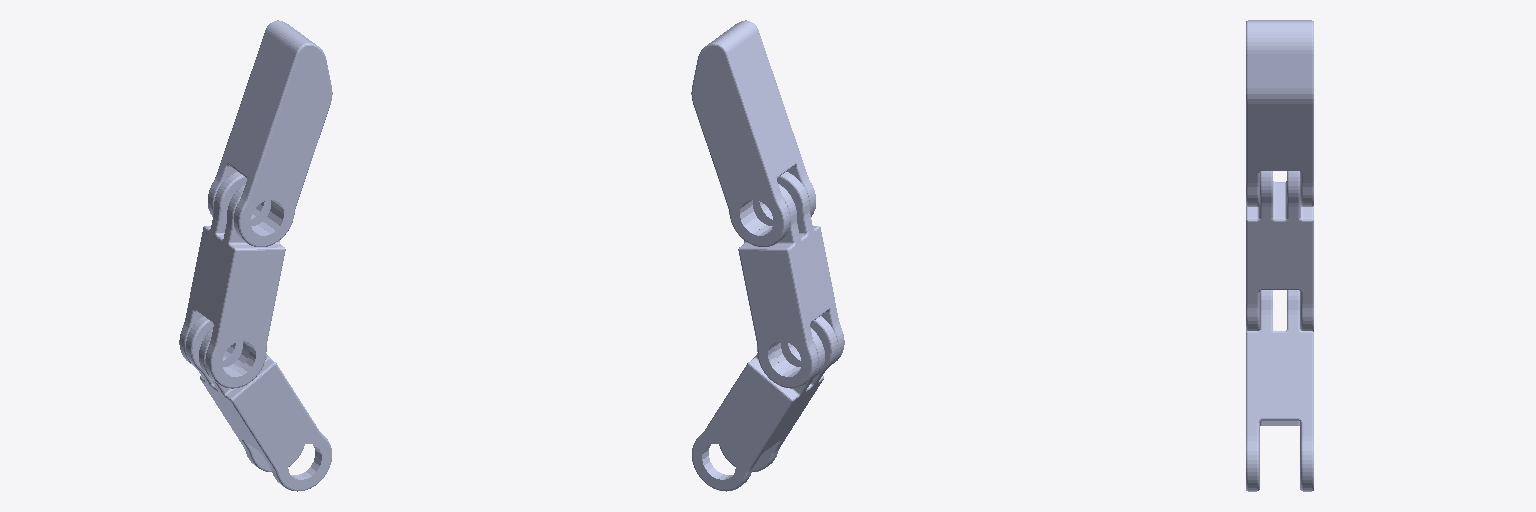
robot.urdf — Assembly.SLDASM:
<?xml version="1.0" encoding="utf-8"?>
<!-- This URDF was automatically created by SolidWorks to URDF Exporter! Originally created by [author] ([email redacted]) 
     Commit Version: 1.6.0-4-g7f85cfe  Build Version: 1.6.7995.38578
     For more information, please see http://wiki.ros.org/sw_urdf_exporter -->
<robot
  name="Assembly.SLDASM">
  <link
    name="base_link">
    <inertial>
      <origin
        xyz="4.1638E-18 -0.0099501 0.03"
        rpy="0 0 0" />
      <mass
        value="2.2532" />
      <inertia
        ixx="0.0027726"
        ixy="5.064E-20"
        ixz="7.5802E-20"
        iyy="0.0053916"
        iyz="1.4088E-20"
        izz="0.0027727" />
    </inertial>
    <visual>
      <origin
        xyz="0 0 0"
        rpy="0 0 0" />
      <geometry>
        <mesh
          filename="package://Assembly.SLDASM/meshes/base_link.STL" />
      </geometry>
      <material
        name="">
        <color
          rgba="0.52941 0.54902 0.54902 1" />
      </material>
    </visual>
    <collision>
      <origin
        xyz="0 0 0"
        rpy="0 0 0" />
      <geometry>
        <mesh
          filename="package://Assembly.SLDASM/meshes/base_link.STL" />
      </geometry>
    </collision>
  </link>
  <link
    name="link1">
    <inertial>
      <origin
        xyz="0.0175 -0.0075 -2.0201E-15"
        rpy="0 0 0" />
      <mass
        value="0.0057358" />
      <inertia
        ixx="2.1463E-07"
        ixy="-1.4818E-22"
        ixz="-1.7205E-22"
        iyy="7.0203E-07"
        iyz="3.503E-23"
        izz="7.1625E-07" />
    </inertial>
    <visual>
      <origin
        xyz="0 0 0"
        rpy="0 0 0" />
      <geometry>
        <mesh
          filename="package://Assembly.SLDASM/meshes/link1.STL" />
      </geometry>
      <material
        name="">
        <color
          rgba="0.79216 0.81961 0.93333 1" />
      </material>
    </visual>
    <collision>
      <origin
        xyz="0 0 0"
        rpy="0 0 0" />
      <geometry>
        <mesh
          filename="package://Assembly.SLDASM/meshes/link1.STL" />
      </geometry>
    </collision>
  </link>
  <joint
    name="joint0"
    type="revolute">
    <origin
      xyz="0 -0.0225 0.008"
      rpy="3.1416 -1.0462 3.1416" />
    <parent
      link="base_link" />
    <child
      link="link1" />
    <axis
      xyz="0 1 0" />
    <limit
      lower="-1.57"
      upper="1.57"
      effort="10"
      velocity="100" />
  </joint>
  <link
    name="link2">
    <inertial>
      <origin
        xyz="0.0175 0.0075 -2.2309E-15"
        rpy="0 0 0" />
      <mass
        value="0.0057358" />
      <inertia
        ixx="2.1463E-07"
        ixy="2.4975E-22"
        ixz="-9.2644E-23"
        iyy="7.0203E-07"
        iyz="5.2061E-24"
        izz="7.1625E-07" />
    </inertial>
    <visual>
      <origin
        xyz="0 0 0"
        rpy="0 0 0" />
      <geometry>
        <mesh
          filename="package://Assembly.SLDASM/meshes/link2.STL" />
      </geometry>
      <material
        name="">
        <color
          rgba="0.79216 0.81961 0.93333 1" />
      </material>
    </visual>
    <collision>
      <origin
        xyz="0 0 0"
        rpy="0 0 0" />
      <geometry>
        <mesh
          filename="package://Assembly.SLDASM/meshes/link2.STL" />
      </geometry>
    </collision>
  </link>
  <joint
    name="joint1"
    type="revolute">
    <origin
      xyz="0.035 0 0"
      rpy="-3.1416 0.741 0" />
    <parent
      link="link1" />
    <child
      link="link2" />
    <axis
      xyz="0 1 0" />
    <limit
      lower="-1.57"
      upper="1.57"
      effort="10"
      velocity="100" />
  </joint>
  <link
    name="fingertip">
    <inertial>
      <origin
        xyz="0.021444 -0.0075 0.00036377"
        rpy="0 0 0" />
      <mass
        value="0.0075224" />
      <inertia
        ixx="2.7488E-07"
        ixy="-1.2304E-16"
        ixz="-4.6053E-08"
        iyy="1.1261E-06"
        iyz="-2.4426E-17"
        izz="1.1611E-06" />
    </inertial>
    <visual>
      <origin
        xyz="0 0 0"
        rpy="0 0 0" />
      <geometry>
        <mesh
          filename="package://Assembly.SLDASM/meshes/fingertip.STL" />
      </geometry>
      <material
        name="">
        <color
          rgba="0.79216 0.81961 0.93333 1" />
      </material>
    </visual>
    <collision>
      <origin
        xyz="0 0 0"
        rpy="0 0 0" />
      <geometry>
        <mesh
          filename="package://Assembly.SLDASM/meshes/fingertip.STL" />
      </geometry>
    </collision>
  </link>
  <joint
    name="joint2"
    type="revolute">
    <origin
      xyz="0.035 0 0"
      rpy="3.1416 -0.15223 0" />
    <parent
      link="link2" />
    <child
      link="fingertip" />
    <axis
      xyz="0 1 0" />
    <limit
      lower="-1.57"
      upper="1.57"
      effort="10"
      velocity="100" />
  </joint>
</robot>

--- Facts derived from the render (not from the file) ---
Views: 3 orthographic renders of the robot side by side, from view 1: azimuth 30°, elevation 25°; view 2: azimuth 150°, elevation 25°; view 3: azimuth 270°, elevation 25°.
Robot: Assembly.SLDASM — 4 links, 3 joints (3 revolute); root link base_link; default pose: every joint at zero.
Links seen in each view (by area): view 1: fingertip, link2, link1; view 2: fingertip, link2, link1; view 3: fingertip, link1, link2.
Link boxes in pixels (bbox=[...]): fingertip: bbox=[208, 20, 332, 246]; link2: bbox=[179, 172, 285, 388]; link1: bbox=[186, 316, 331, 491]; fingertip: bbox=[691, 20, 815, 246]; link2: bbox=[738, 172, 844, 388]; link1: bbox=[692, 316, 837, 491]; fingertip: bbox=[1246, 20, 1313, 206]; link1: bbox=[1246, 290, 1313, 491]; link2: bbox=[1246, 171, 1313, 331].
Bounding box of the posed robot: 0.0326 × 0.015 × 0.1138 m (x, y, z).
Meshes: 4 distinct files referenced, 3 mesh visuals loaded (3 binary STL); not drawn: 1 (reference not matched to a file when rendering).